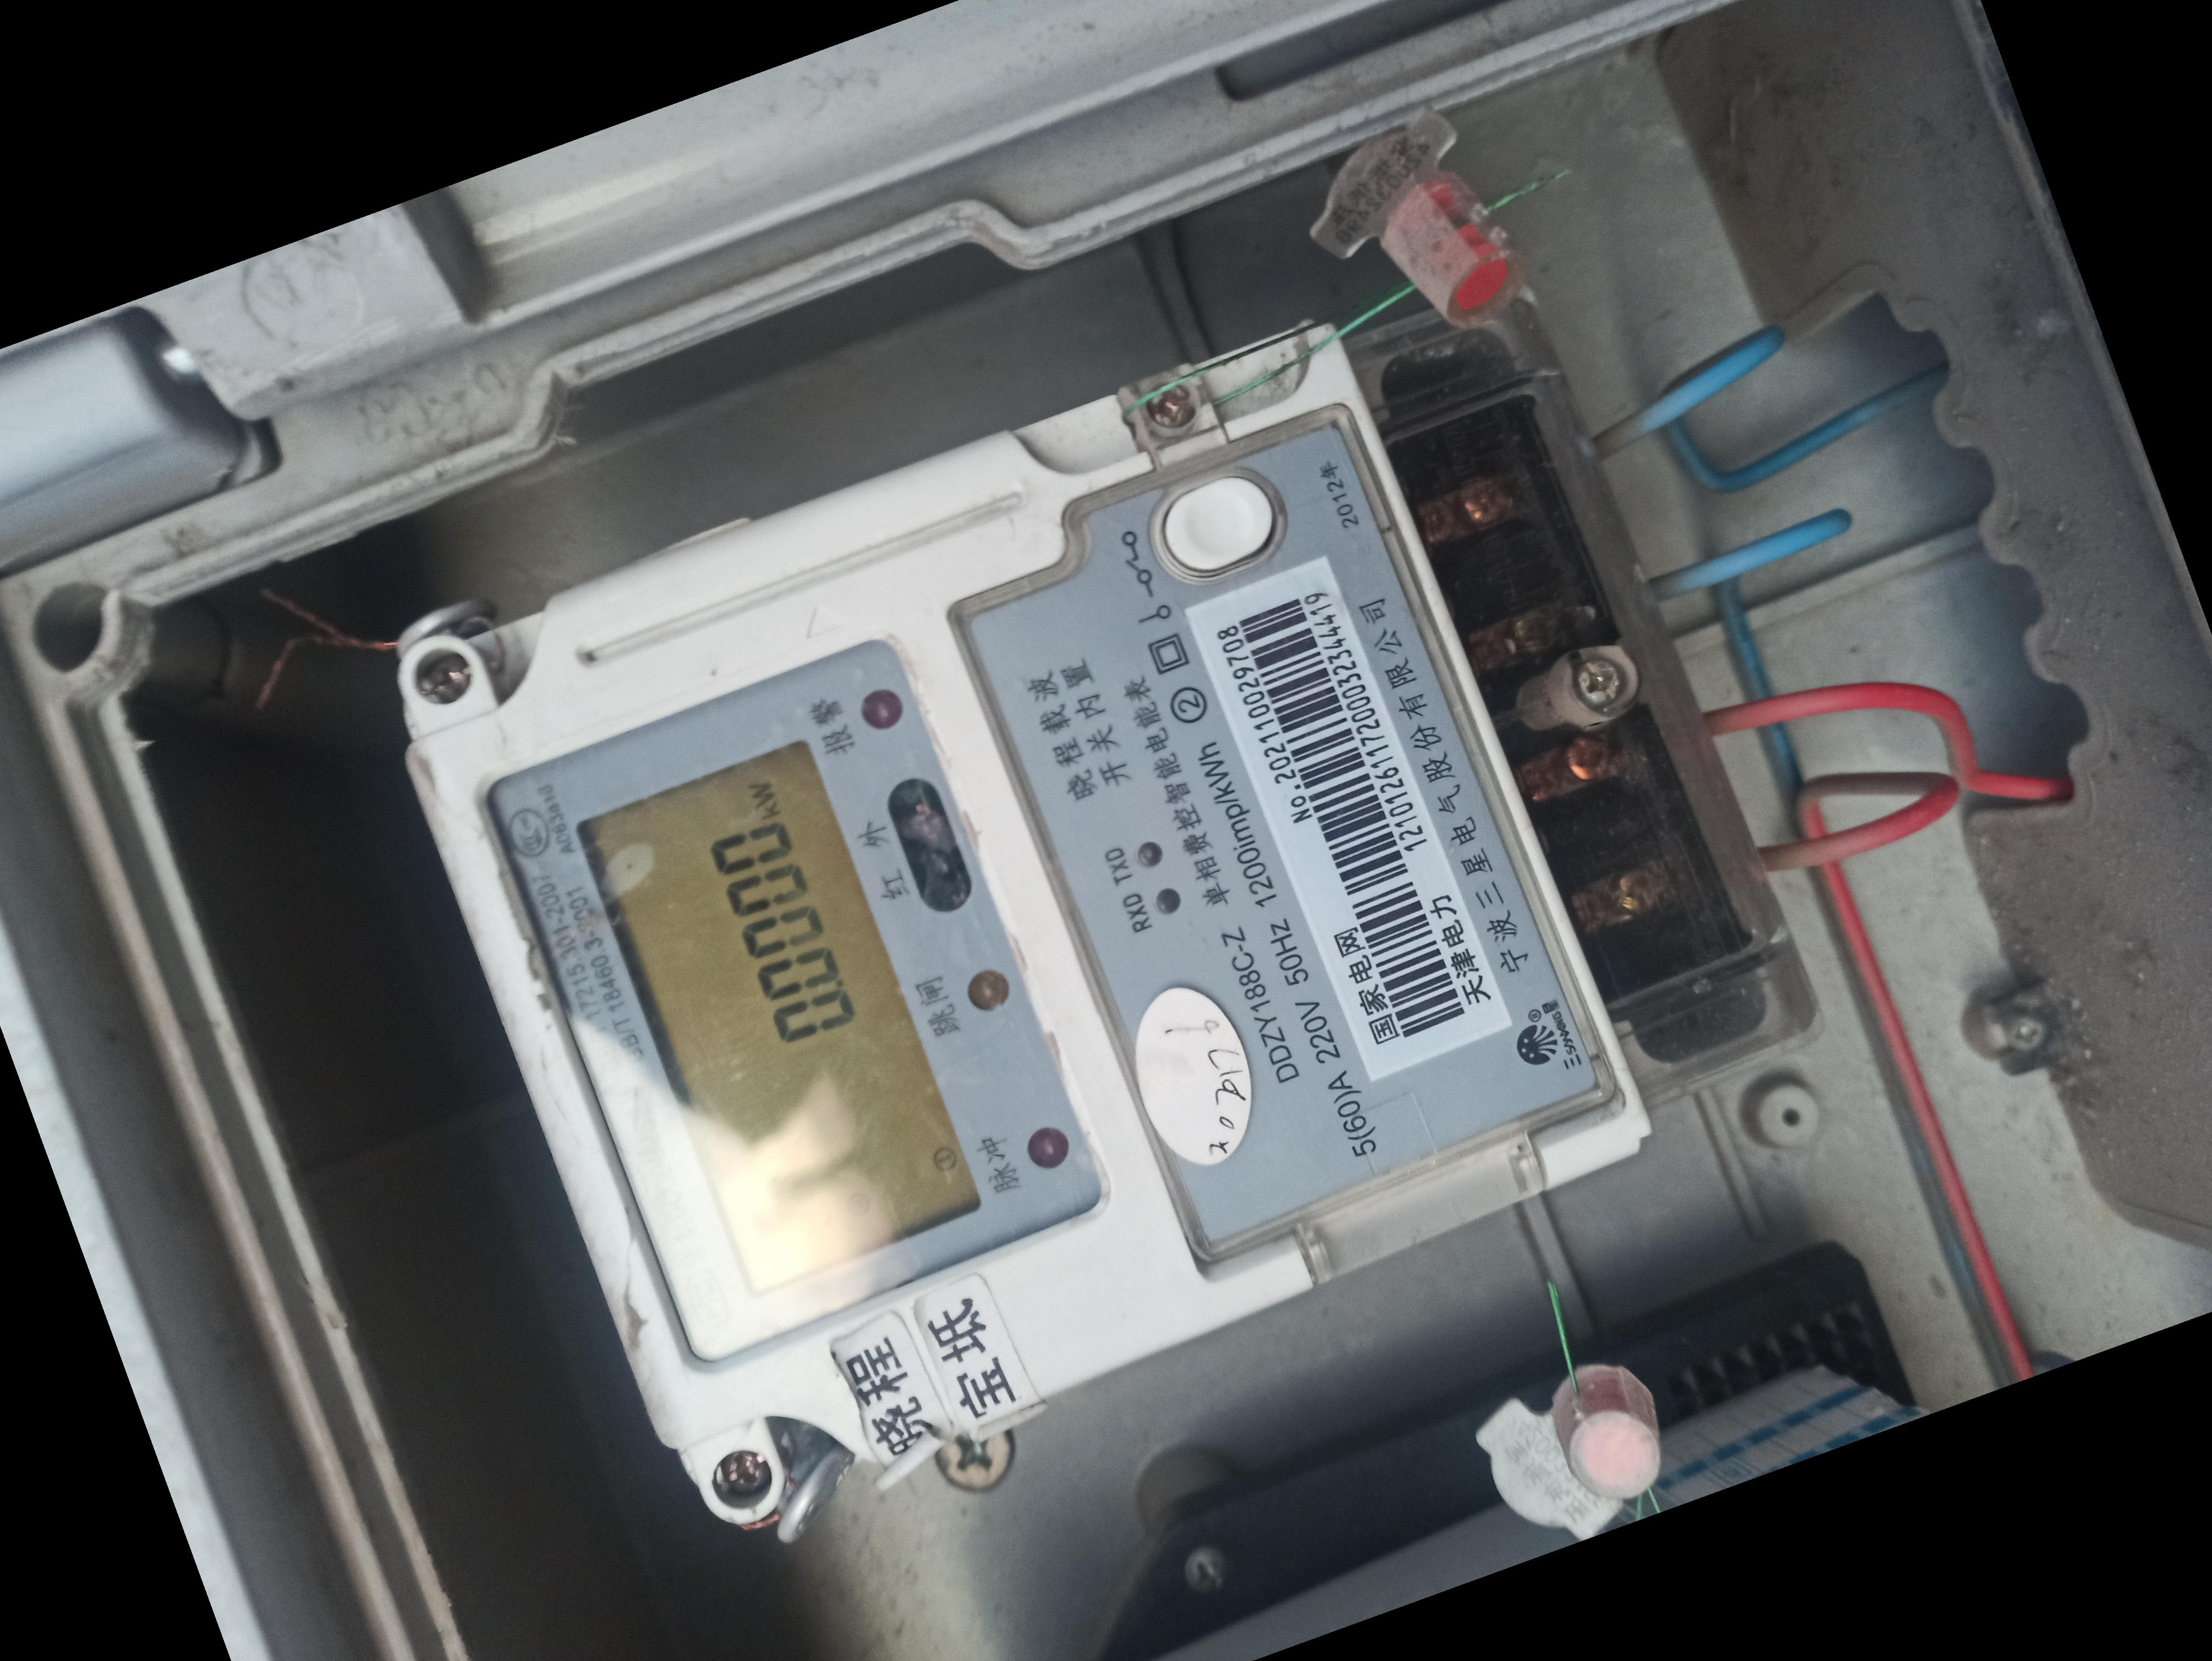digital: (396, 328, 1647, 1476)
